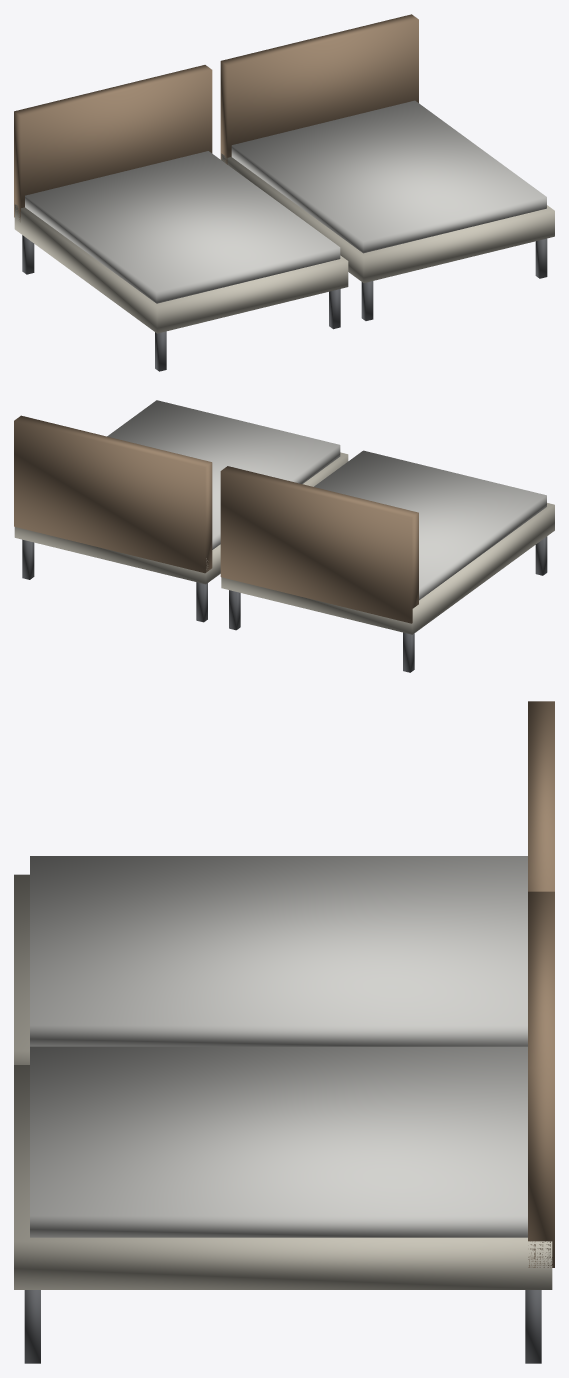
File: double_bed__cluster.glb
3 renders of one model, top to bottom at view 1: azimuth 30°, elevation 25°; view 2: azimuth 150°, elevation 25°; view 3: azimuth 270°, elevation 25°, orthographic. The views are drawn at different scales.
Parts seen in each view (by area): view 1: world; view 2: world; view 3: world.
Boxes of the visible parts, x1,y1,x2,y2 form: world: (14,14,554,371); world: (14,400,554,672); world: (14,701,554,1363).
Size of the model in its own units: 3.22 by 1.23 by 2.01.
